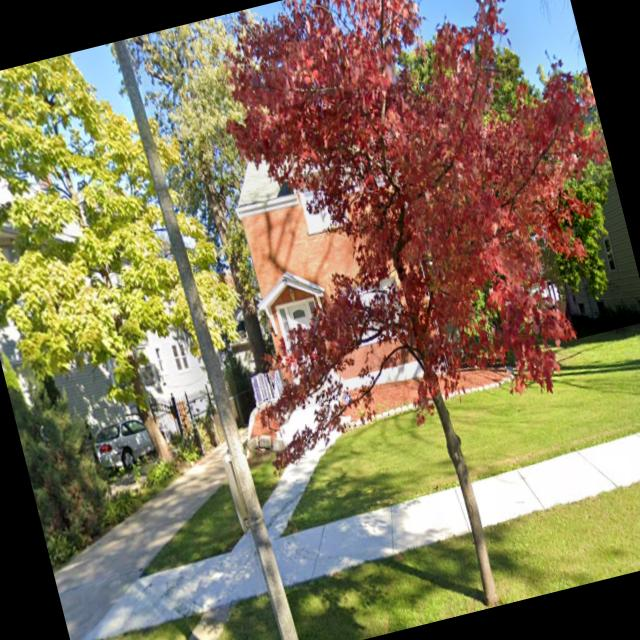House: (173, 82, 453, 424), (540, 177, 640, 338)
